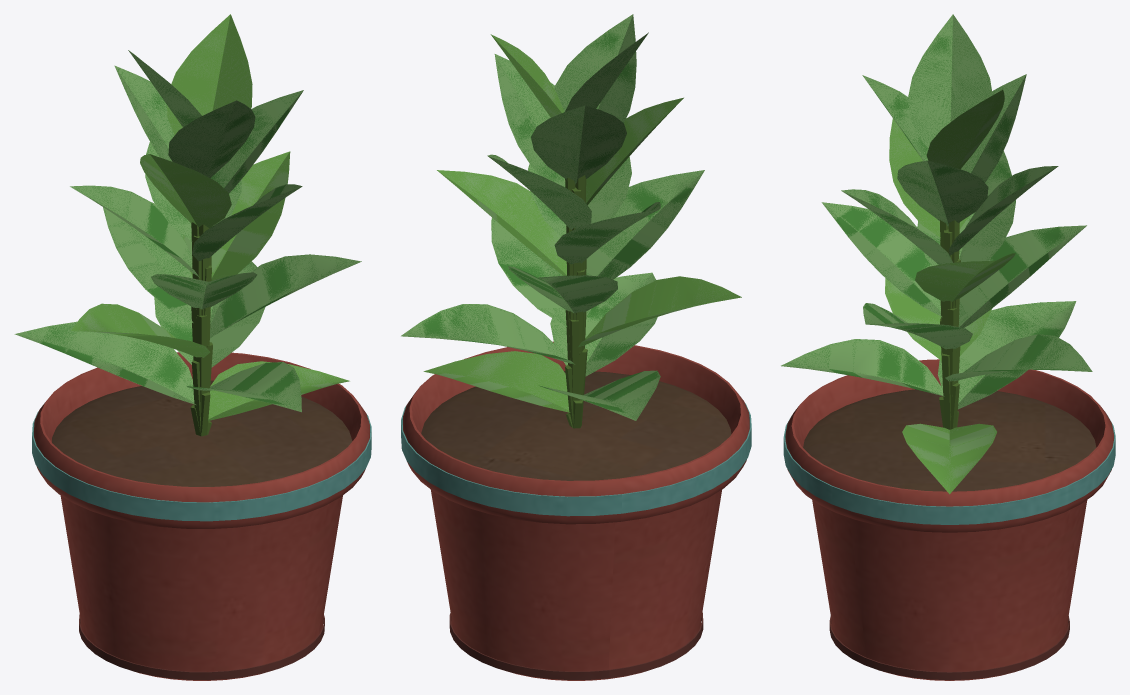
File: potted_plant_small.glb
3 views of the same model, side by side, from view 1: azimuth 30°, elevation 25°; view 2: azimuth 150°, elevation 25°; view 3: azimuth 270°, elevation 25° (orthographic). The views are drawn at different scales.
Parts seen in each view (by area): view 1: PottedPlantSmallBody; view 2: PottedPlantSmallBody; view 3: PottedPlantSmallBody.
Part boxes in pixels (x1,y1,x2,y2): PottedPlantSmallBody: (14,14,371,680); PottedPlantSmallBody: (401,14,751,680); PottedPlantSmallBody: (781,14,1115,680).
Bounding box in the file's own units: 0.2184 × 0.4226 × 0.2197.
Materials: 8 (4 with a texture image).
